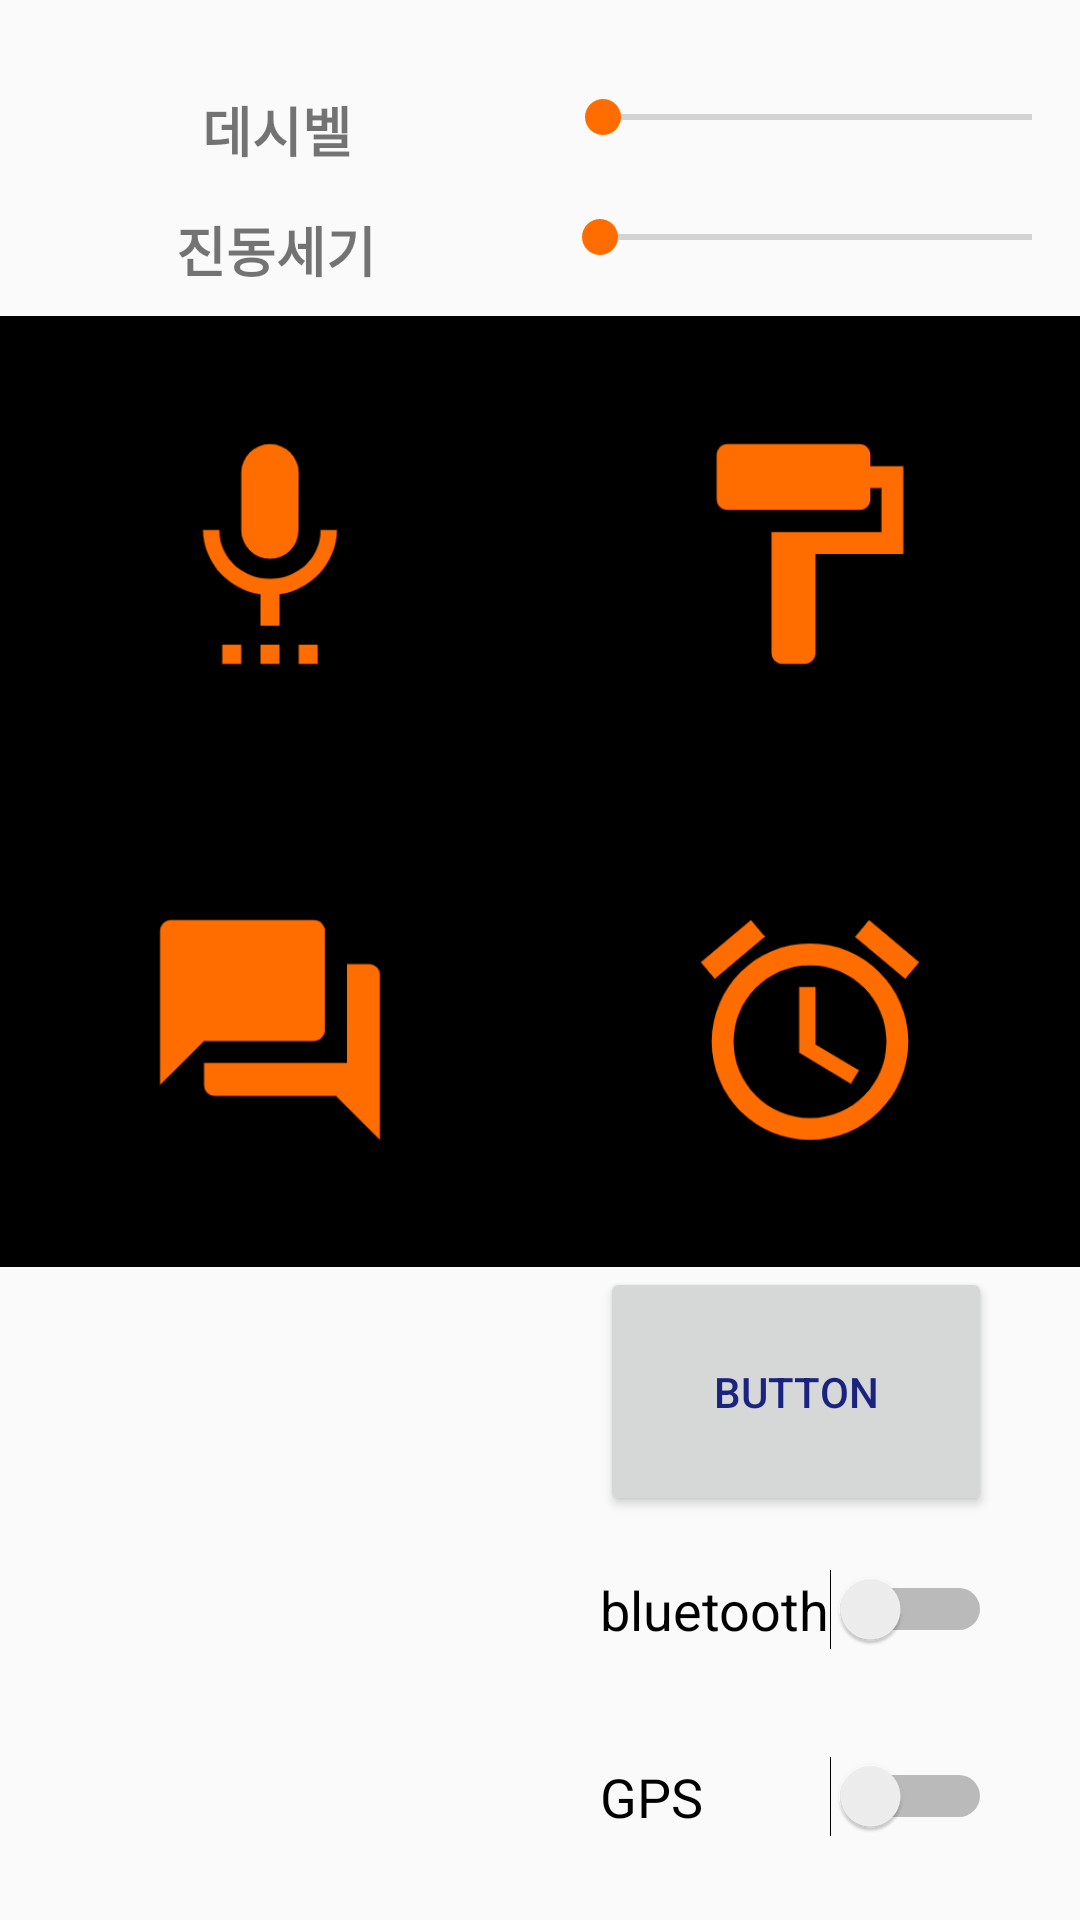

Screen size 1080x1920. Icon name, then its box in pixels as (x1, y1, x2, y2):
alarm: (700, 920, 920, 1141)
mic: (202, 443, 338, 665)
